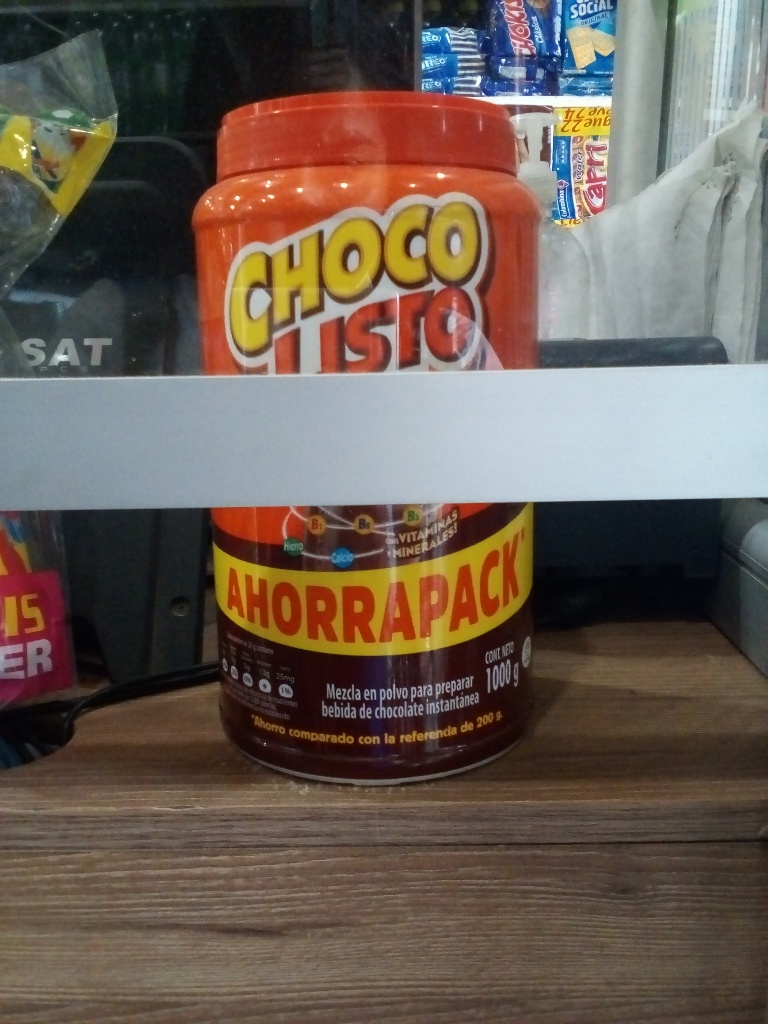COL0170103TRR00100: (186, 90, 550, 792)
